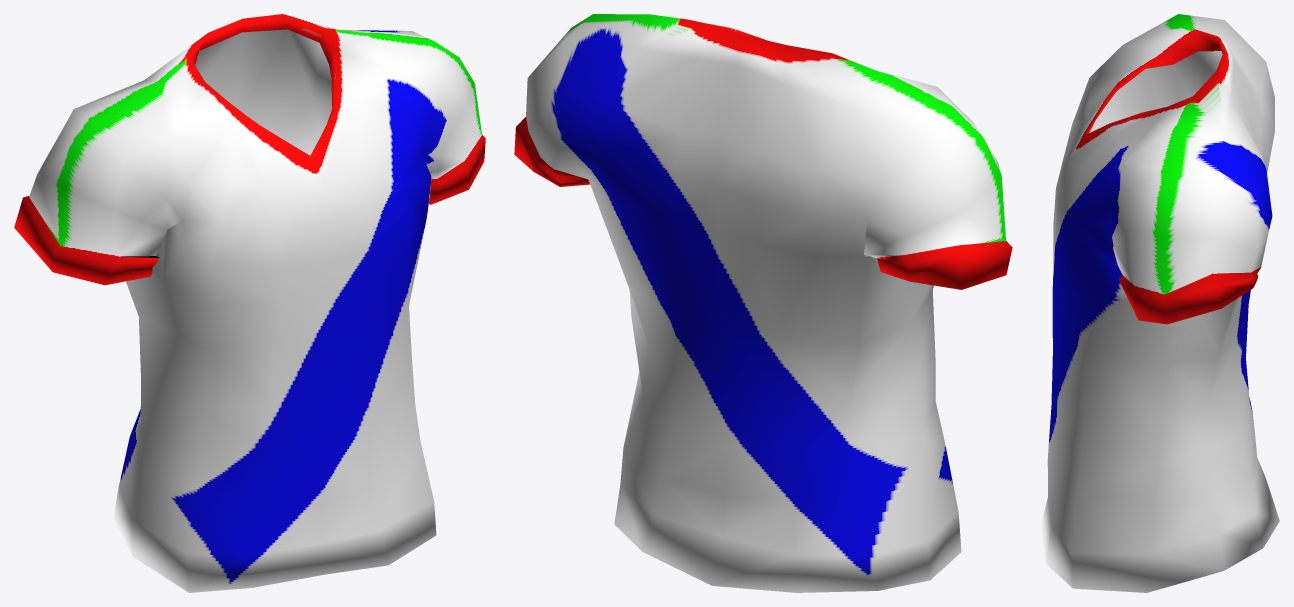
The model's file is shirt.FBX.
3 renders of one model, left to right at view 1: azimuth 30°, elevation 25°; view 2: azimuth 150°, elevation 25°; view 3: azimuth 270°, elevation 25°, orthographic. The views are drawn at different scales.
Parts seen in each view (by area): view 1: Shirt; view 2: Shirt; view 3: Shirt.
Boxes of the visible parts, box(x1,y1,x2,y2) form: Shirt: box(14, 14, 485, 592); Shirt: box(514, 14, 1012, 592); Shirt: box(1041, 14, 1279, 592).
Size of the model in its own units: 1.97 by 0.9696 by 2.18.
